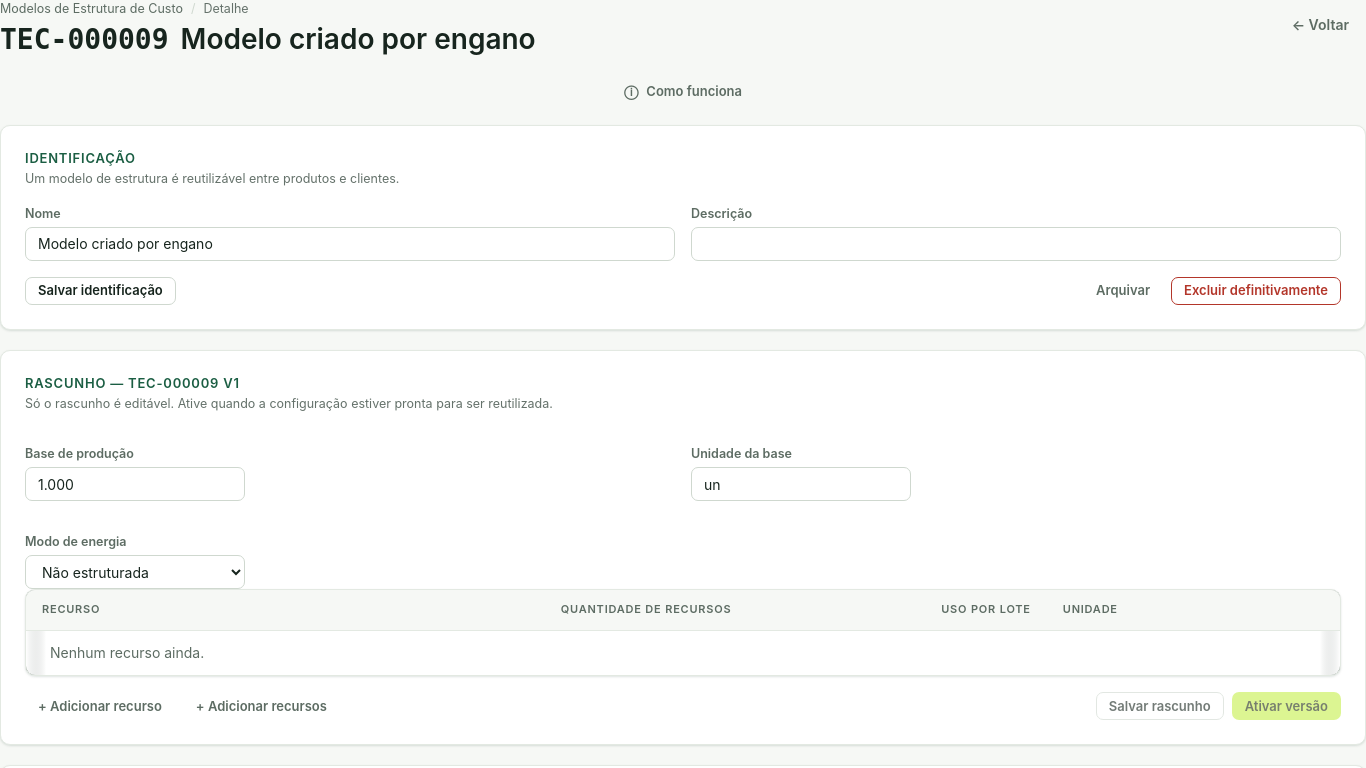
Administrador › bloqueado: a saída Arquivar arquiva o Modelo, e nada é excluído
Click the button "Excluir definitivamente": click(1256, 291) [1171,277,1341,305]
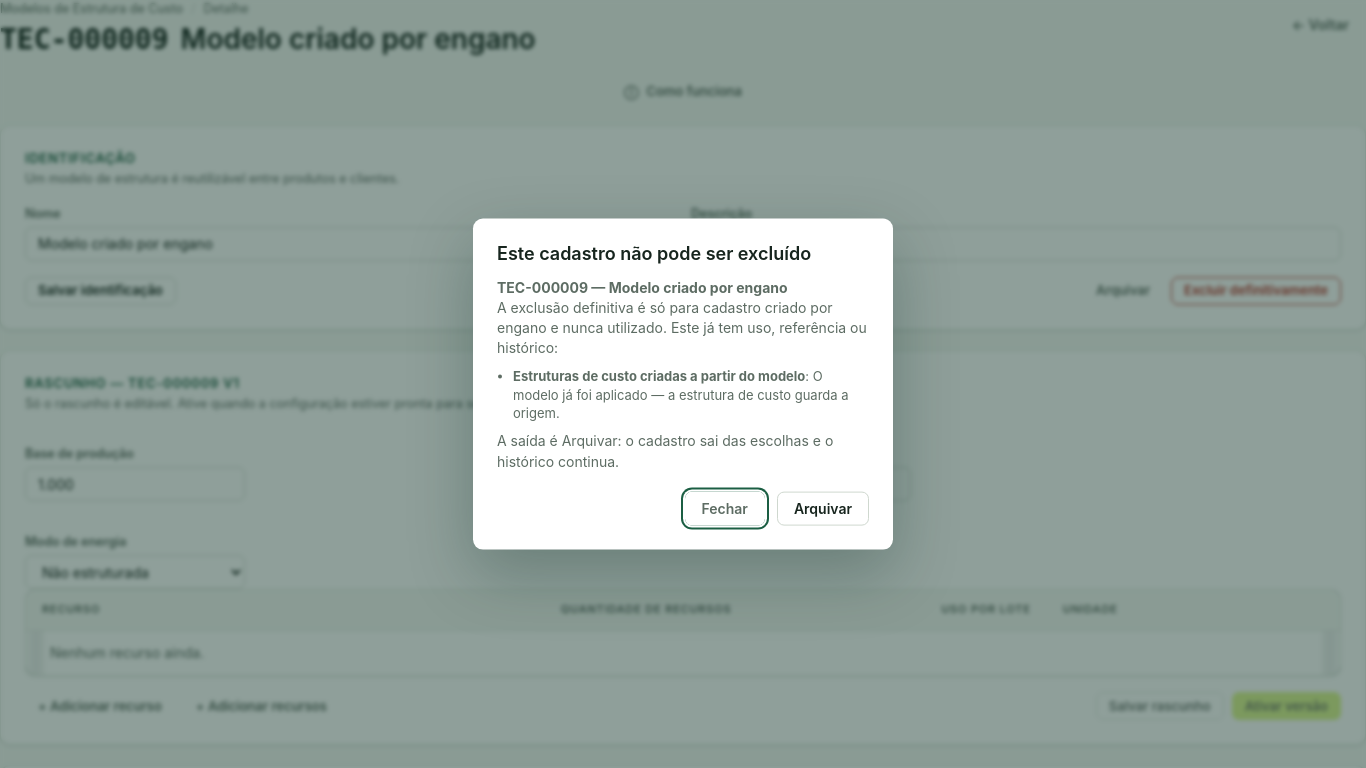
Click the button "Arquivar": click(823, 508) [777,491,869,525]
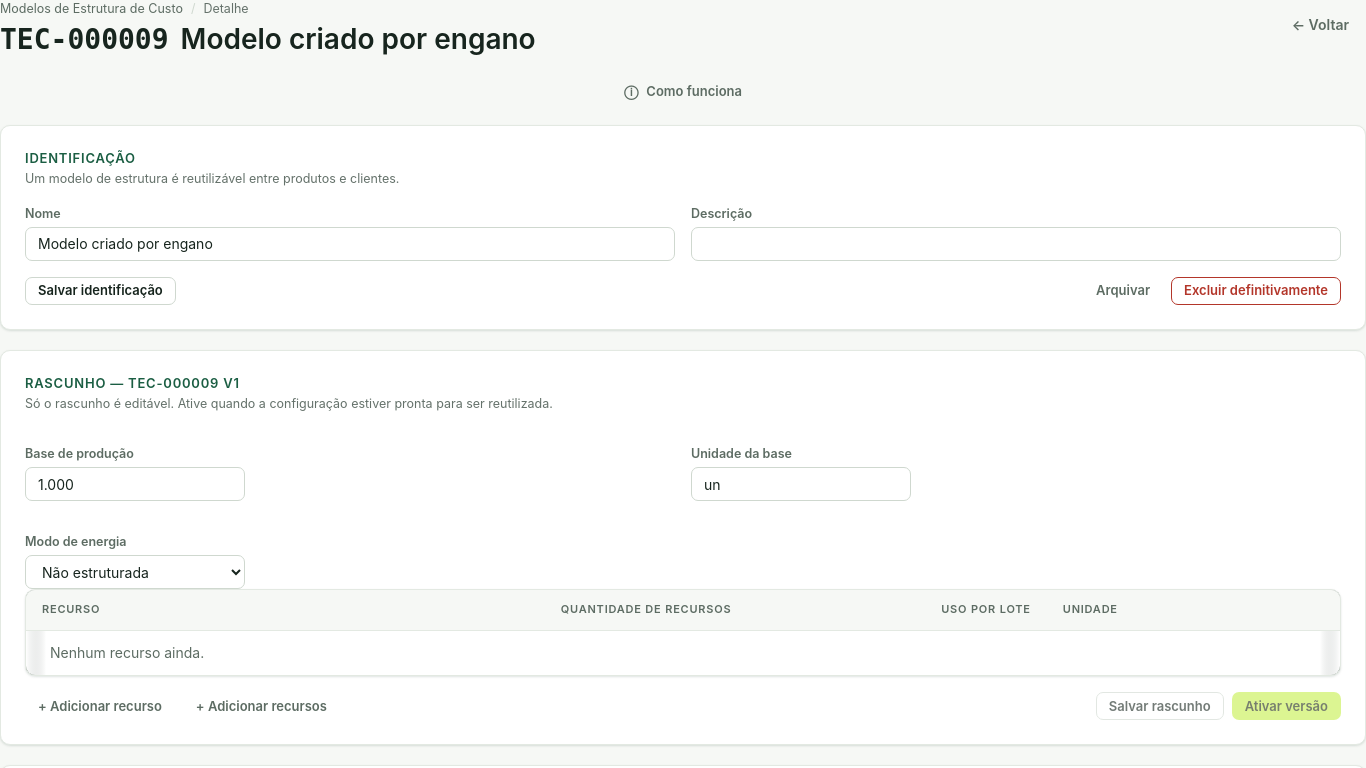
expect the dialog is gone: met
